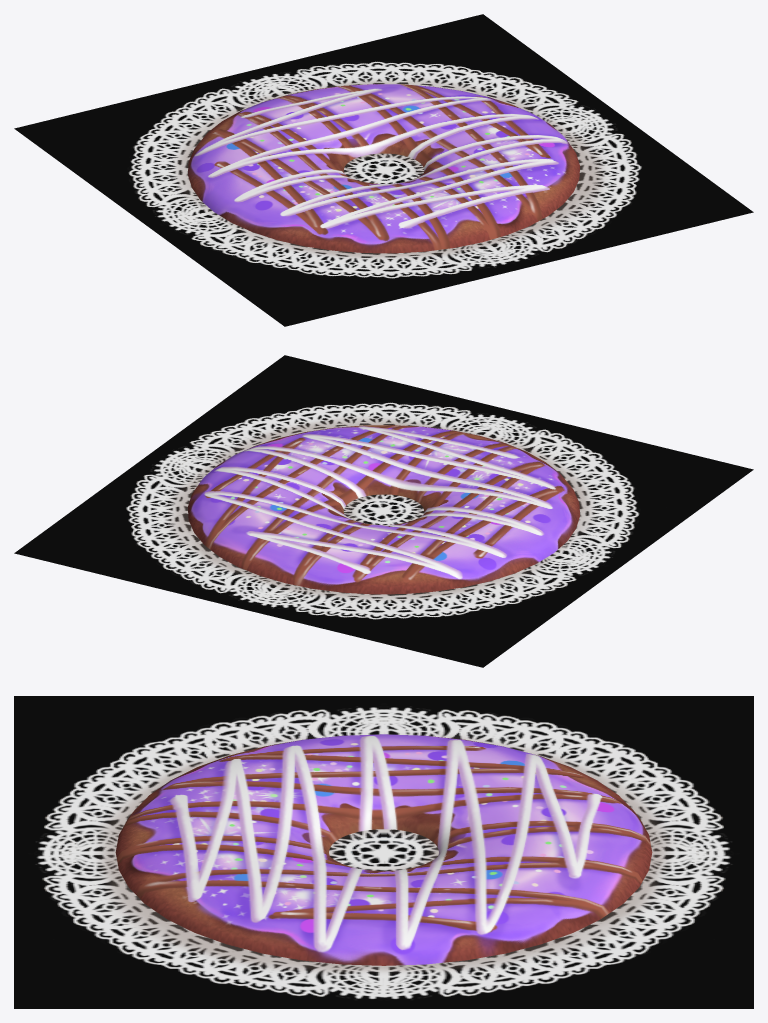
Rendered from WarpBoss.fbx.
3 views of the same model, one above another, from view 1: azimuth 30°, elevation 25°; view 2: azimuth 150°, elevation 25°; view 3: azimuth 270°, elevation 25° (orthographic). The views are drawn at different scales.
Visible parts, largest first — view 1: pPlane1, WarpA; view 2: pPlane1, WarpA; view 3: pPlane1, WarpA.
Part boxes in pixels (x1,y1,x2,y2): pPlane1: (14,14,753,326); WarpA: (188,84,579,253); pPlane1: (14,355,753,667); WarpA: (188,425,579,594); pPlane1: (14,696,753,1008); WarpA: (115,734,652,965).
Size of the model in its own units: 4.6 by 0.1541 by 4.6.
